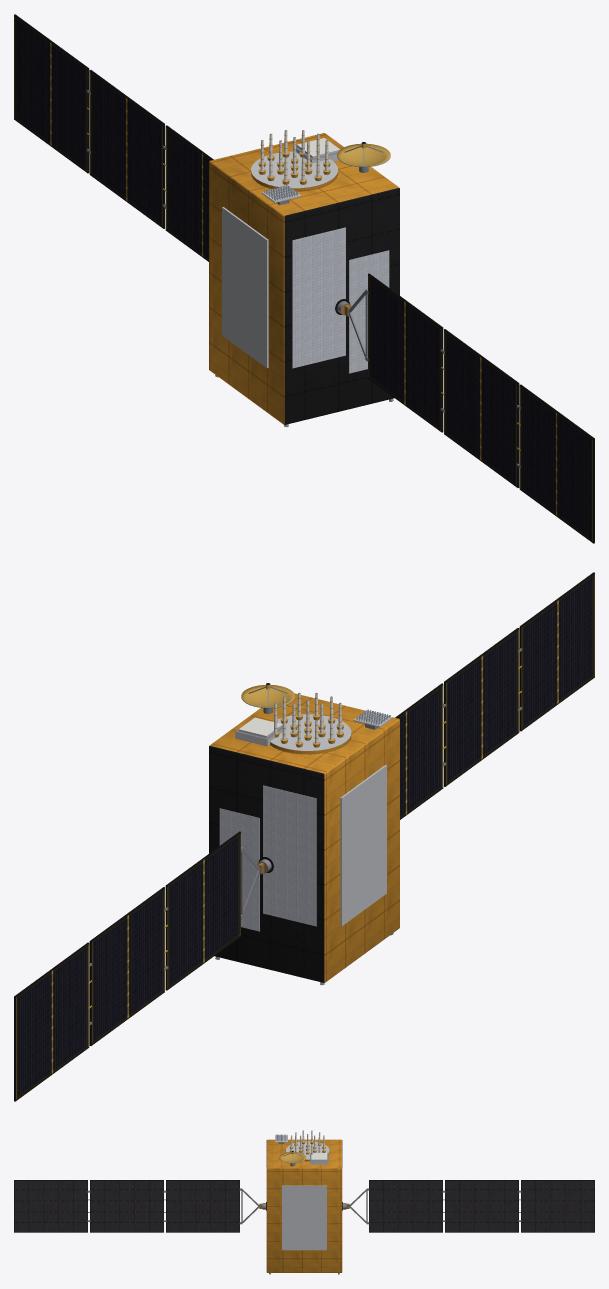
The model's file is bds3-igso.glb.
The picture shows the model from 3 angles, top to bottom: view 1: azimuth 30°, elevation 25°; view 2: azimuth 150°, elevation 25°; view 3: azimuth 270°, elevation 25°; orthographic projection. The views are drawn at different scales.
Parts seen in each view (by area): view 1: bus, wing-Y, wing+Y, nadir_payload_deck; view 2: bus, wing+Y, wing-Y, nadir_payload_deck; view 3: wing+Y, wing-Y, bus, nadir_payload_deck.
Boxes of the visible parts, x1=… form: bus: x1=209, y1=133, x2=399, y2=424; wing-Y: x1=344, y1=273, x2=594, y2=543; wing+Y: x1=14, y1=14, x2=213, y2=261; nadir_payload_deck: x1=251, y1=130, x2=390, y2=205; bus: x1=209, y1=693, x2=399, y2=982; wing+Y: x1=14, y1=831, x2=264, y2=1101; wing-Y: x1=395, y1=572, x2=594, y2=819; nadir_payload_deck: x1=235, y1=683, x2=392, y2=754; wing+Y: x1=346, y1=1180, x2=594, y2=1232; wing-Y: x1=14, y1=1180, x2=262, y2=1232; bus: x1=266, y1=1139, x2=342, y2=1272; nadir_payload_deck: x1=275, y1=1130, x2=329, y2=1166.
Size of the model in its own units: 2.36 by 4.45 by 18.04.
17 materials, 6 textured.
